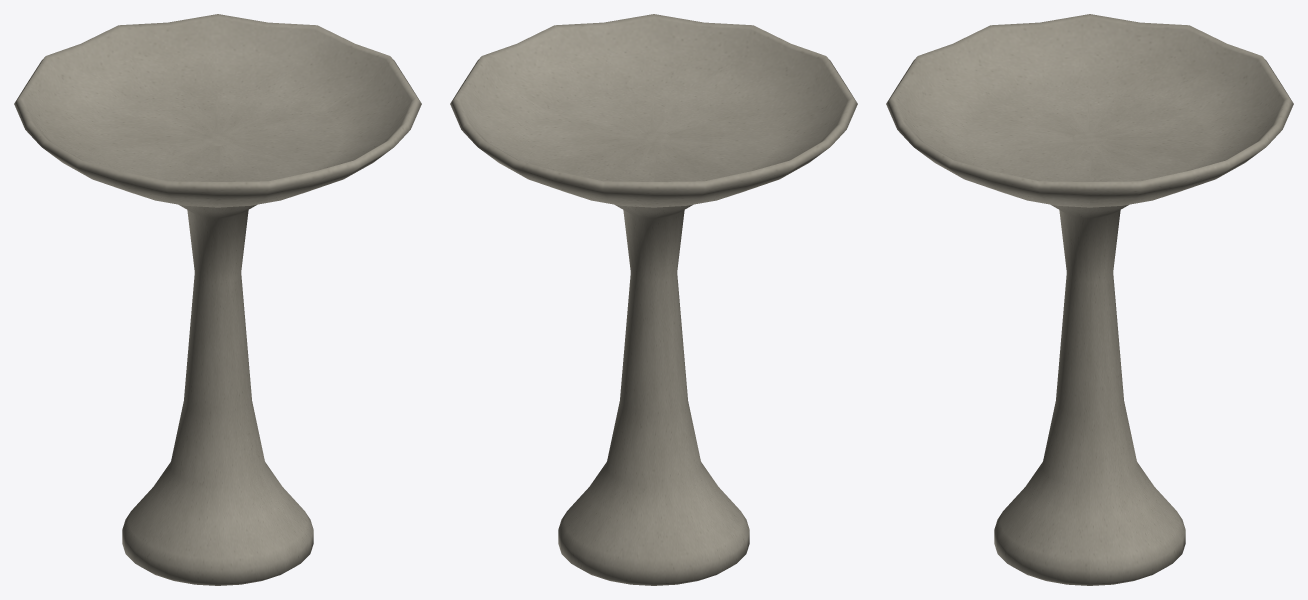
Rendered from pedestal_birdbath_LOD2.glb.
3 renders of one model, left to right at view 1: azimuth 30°, elevation 25°; view 2: azimuth 150°, elevation 25°; view 3: azimuth 270°, elevation 25°, orthographic.
Parts seen in each view (by area): view 1: Monolithic_birdbath; view 2: Monolithic_birdbath; view 3: Monolithic_birdbath.
Boxes of the visible parts, left/top/right/bottom form: Monolithic_birdbath: left=14, top=14, right=421, bottom=585; Monolithic_birdbath: left=450, top=14, right=857, bottom=585; Monolithic_birdbath: left=886, top=14, right=1293, bottom=585.
Size of the model in its own units: 0.562 by 0.685 by 0.562.
Materials: 1 (1 with a texture image).
